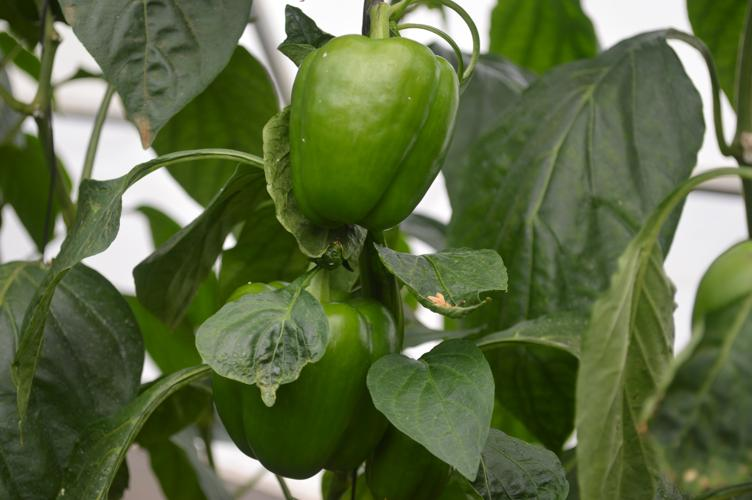BellPepper: (207, 280, 398, 470), (284, 35, 459, 231), (369, 430, 445, 496)
